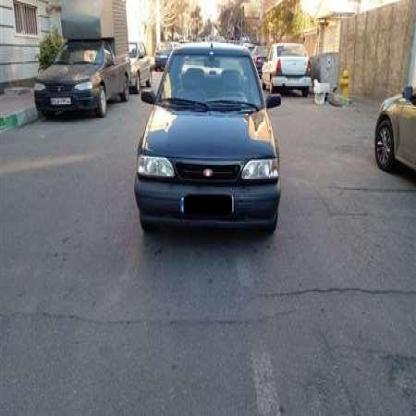Car: (135, 46, 281, 247), (32, 0, 134, 116), (374, 83, 416, 186), (264, 42, 314, 99), (126, 43, 152, 90)
